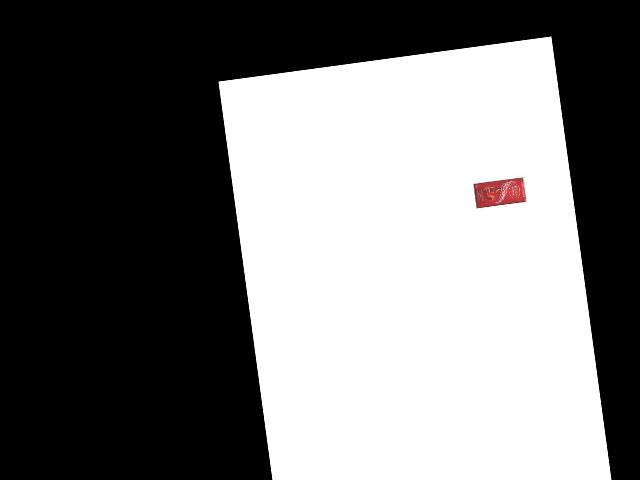chocolate: (469, 175, 527, 209)
